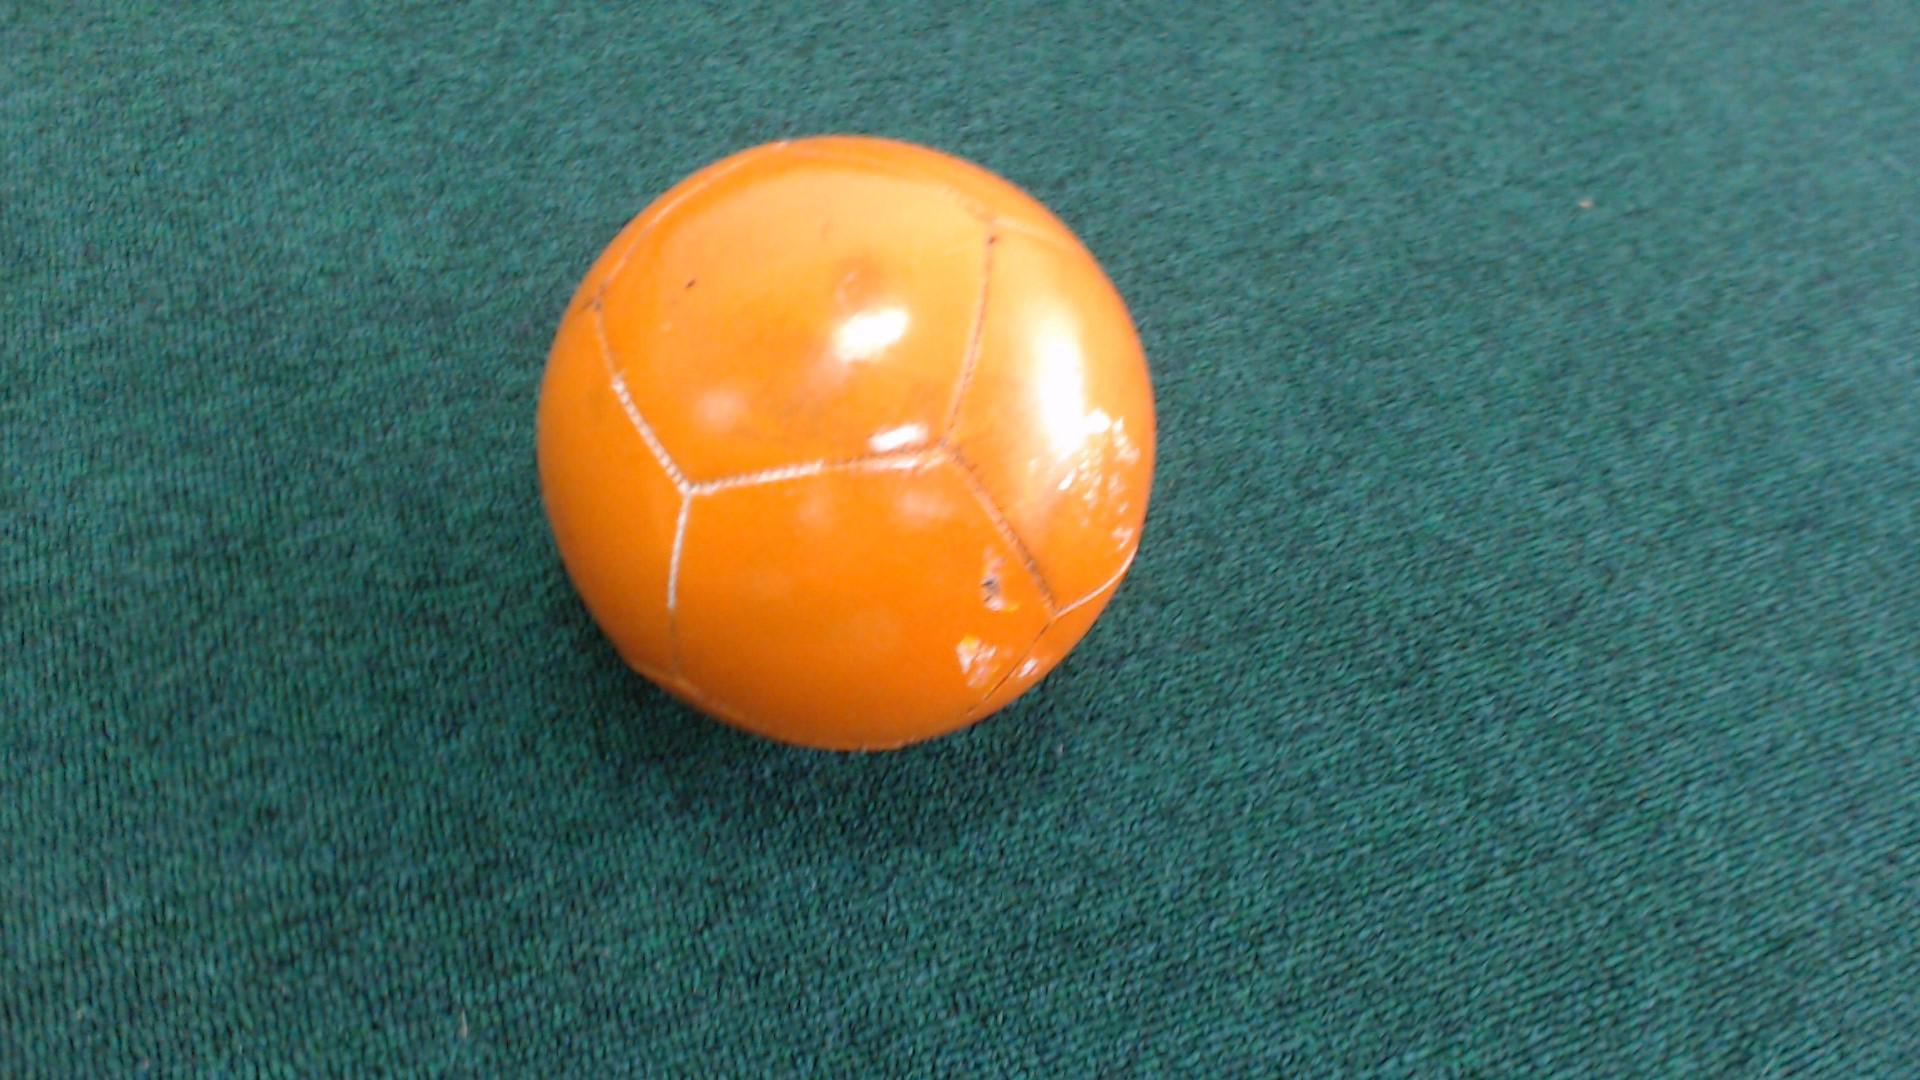bola: (501, 102, 1196, 786)
